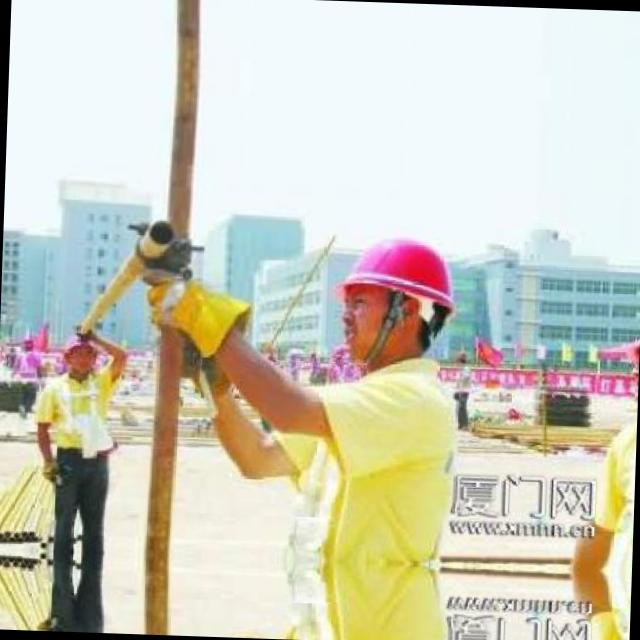helmet: (329, 220, 461, 366), (50, 328, 99, 378)
